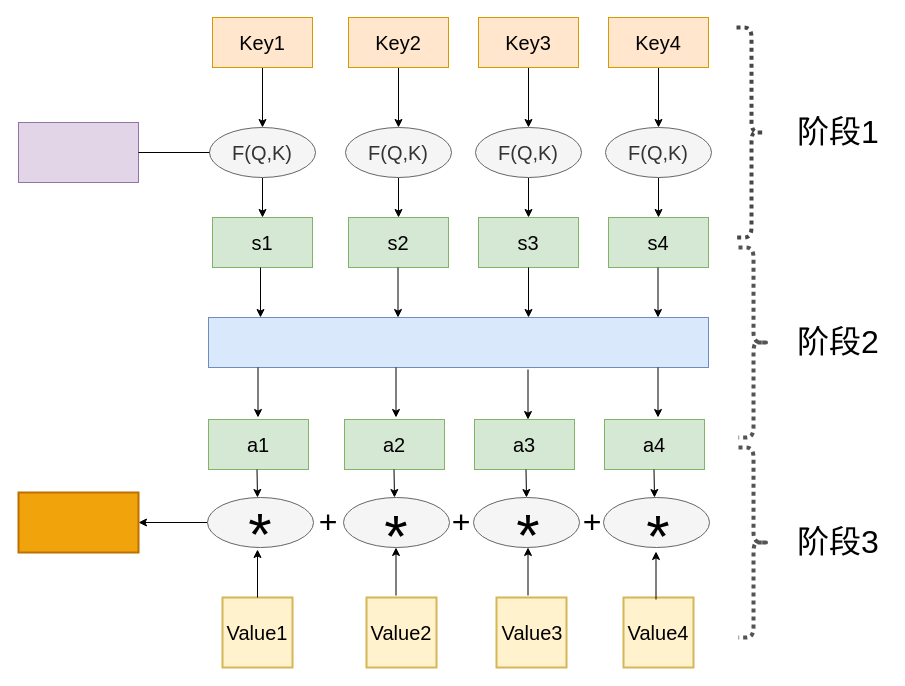
Some shapes in this 905 by 686 pixel diagram are drawn without their labels. Here are the shapes that lost their labels. From the top down, the centre of each, then its label:
[78,152]: Query
[458,342]: 类SoftMax()归一化
[78,522]: Attention Value
